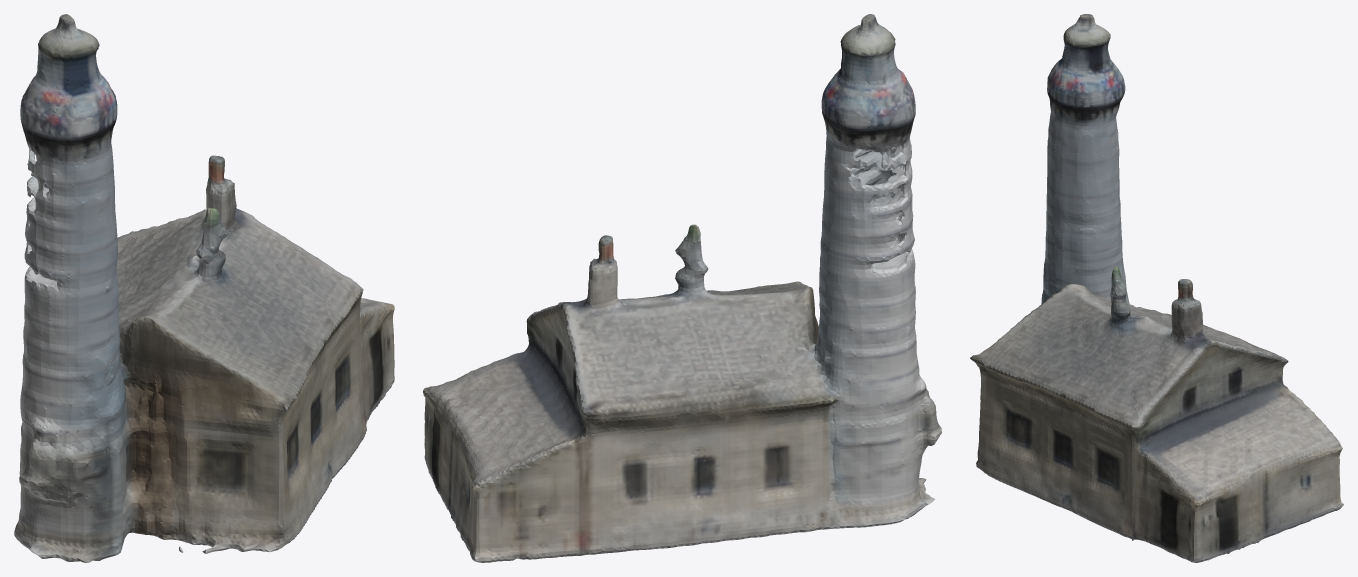
The model's file is asset.glb.
The picture shows the model from 3 angles, left to right: view 1: azimuth 30°, elevation 25°; view 2: azimuth 150°, elevation 25°; view 3: azimuth 270°, elevation 25°; orthographic projection. The views are drawn at different scales.
Visible parts, largest first — view 1: world; view 2: world; view 3: world.
Boxes of the visible parts, box(x1,y1,x2,y2) form: world: box(14, 14, 394, 562); world: box(423, 14, 941, 562); world: box(970, 14, 1343, 562).
Size of the model in its own units: 1.82 by 1.99 by 1.66.
